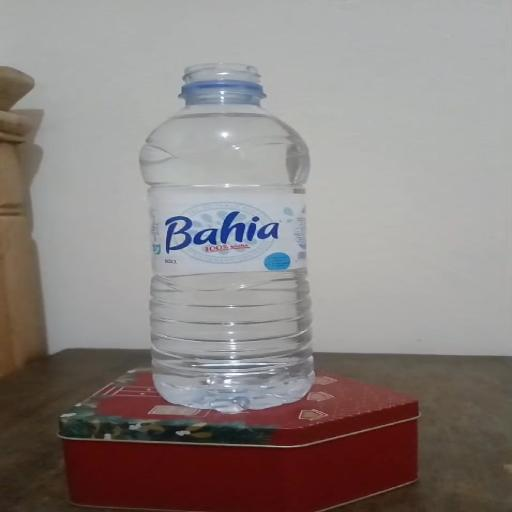bouteille non conformite: (88, 31, 356, 416), (143, 60, 301, 106)
